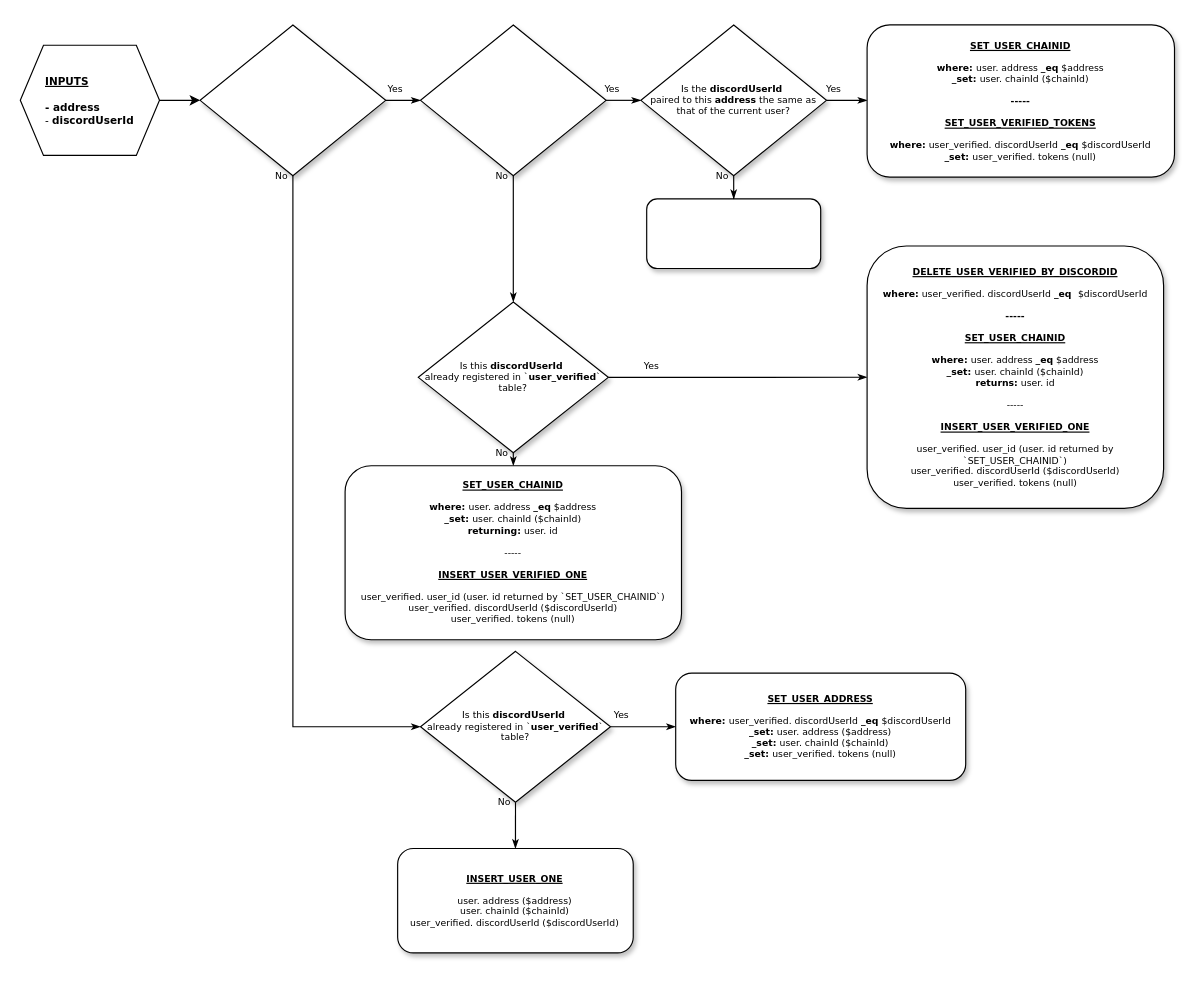
Some shapes in this 1202 by 981 pixel diagram are drawn without their labels. The centre of each missing label's shape, as x and y in pixels:
"ERROR Another Discord user has already registered with this address." belongs at pixel 734 235.
"Is this address already paired to a discordUserId ?" belongs at pixel 514 101.
"Is this address already registered in ` user ` table?" belongs at pixel 293 101.
